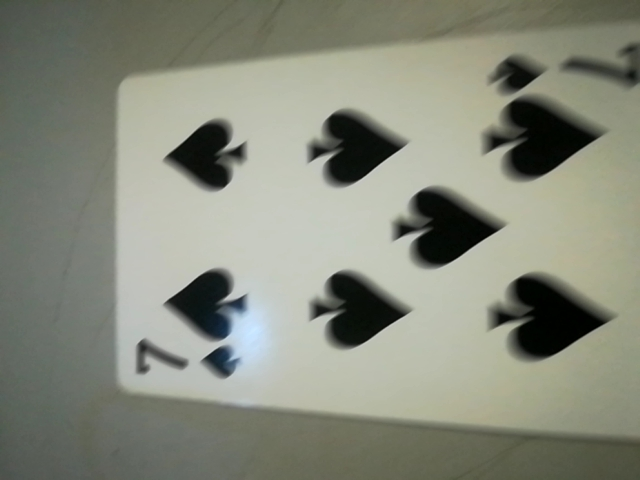ht 7: (115, 315, 254, 395)
